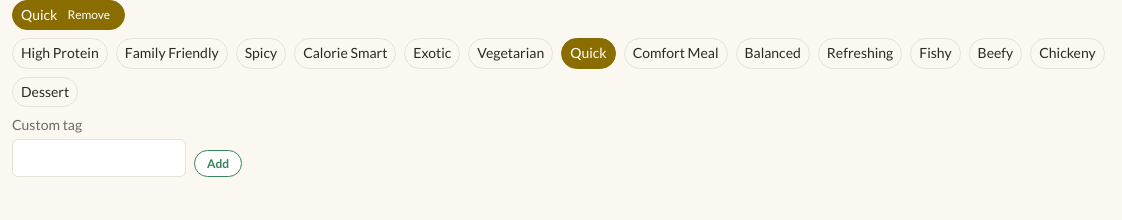
TagEditor › rejects a case-insensitive duplicate custom tag with a hint
Type "quick" into the field labelled "Custom tag" at point(99, 158), box [12,139,186,178]
Then press Enter
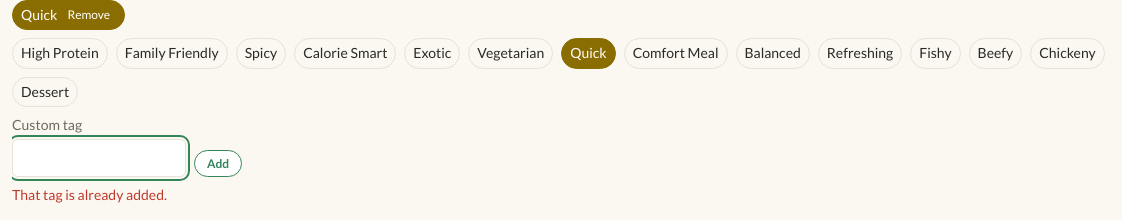
Now the text "That tag is already added." is shown, box [12,186,167,204]
